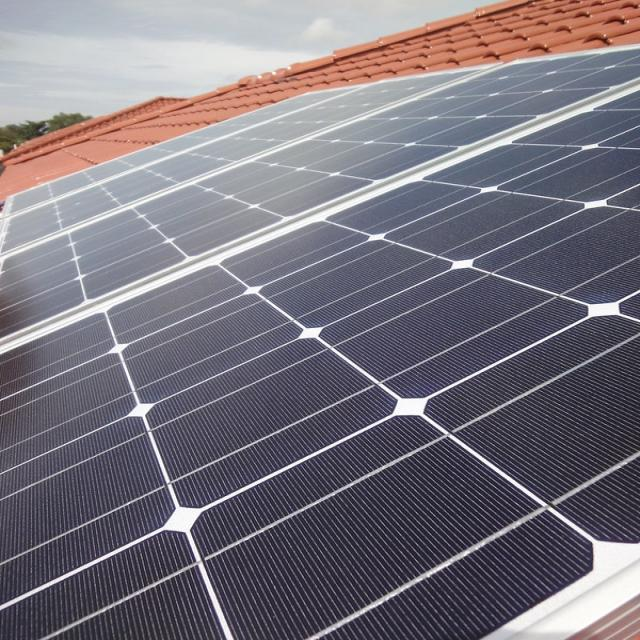no faulty: (0, 80, 629, 640)
